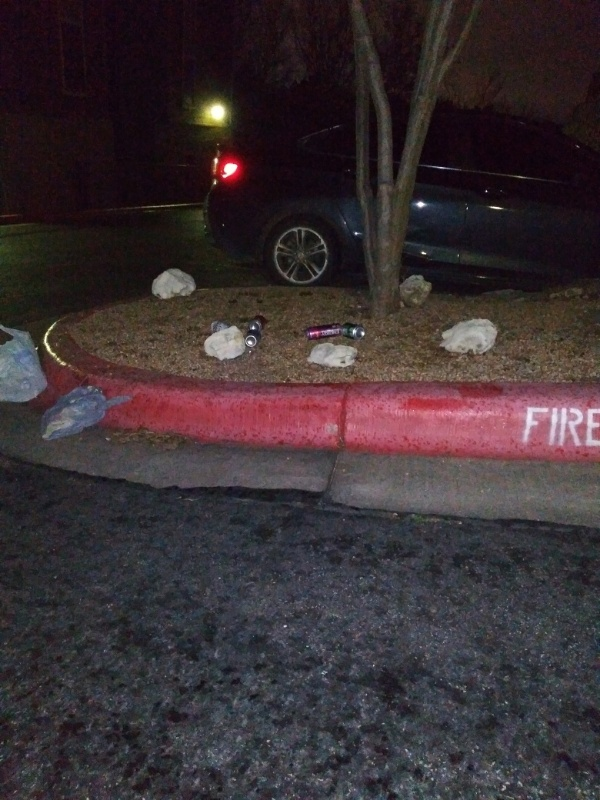can: (303, 318, 344, 342), (339, 322, 367, 339), (247, 315, 268, 335), (208, 318, 229, 335), (244, 330, 263, 348)
